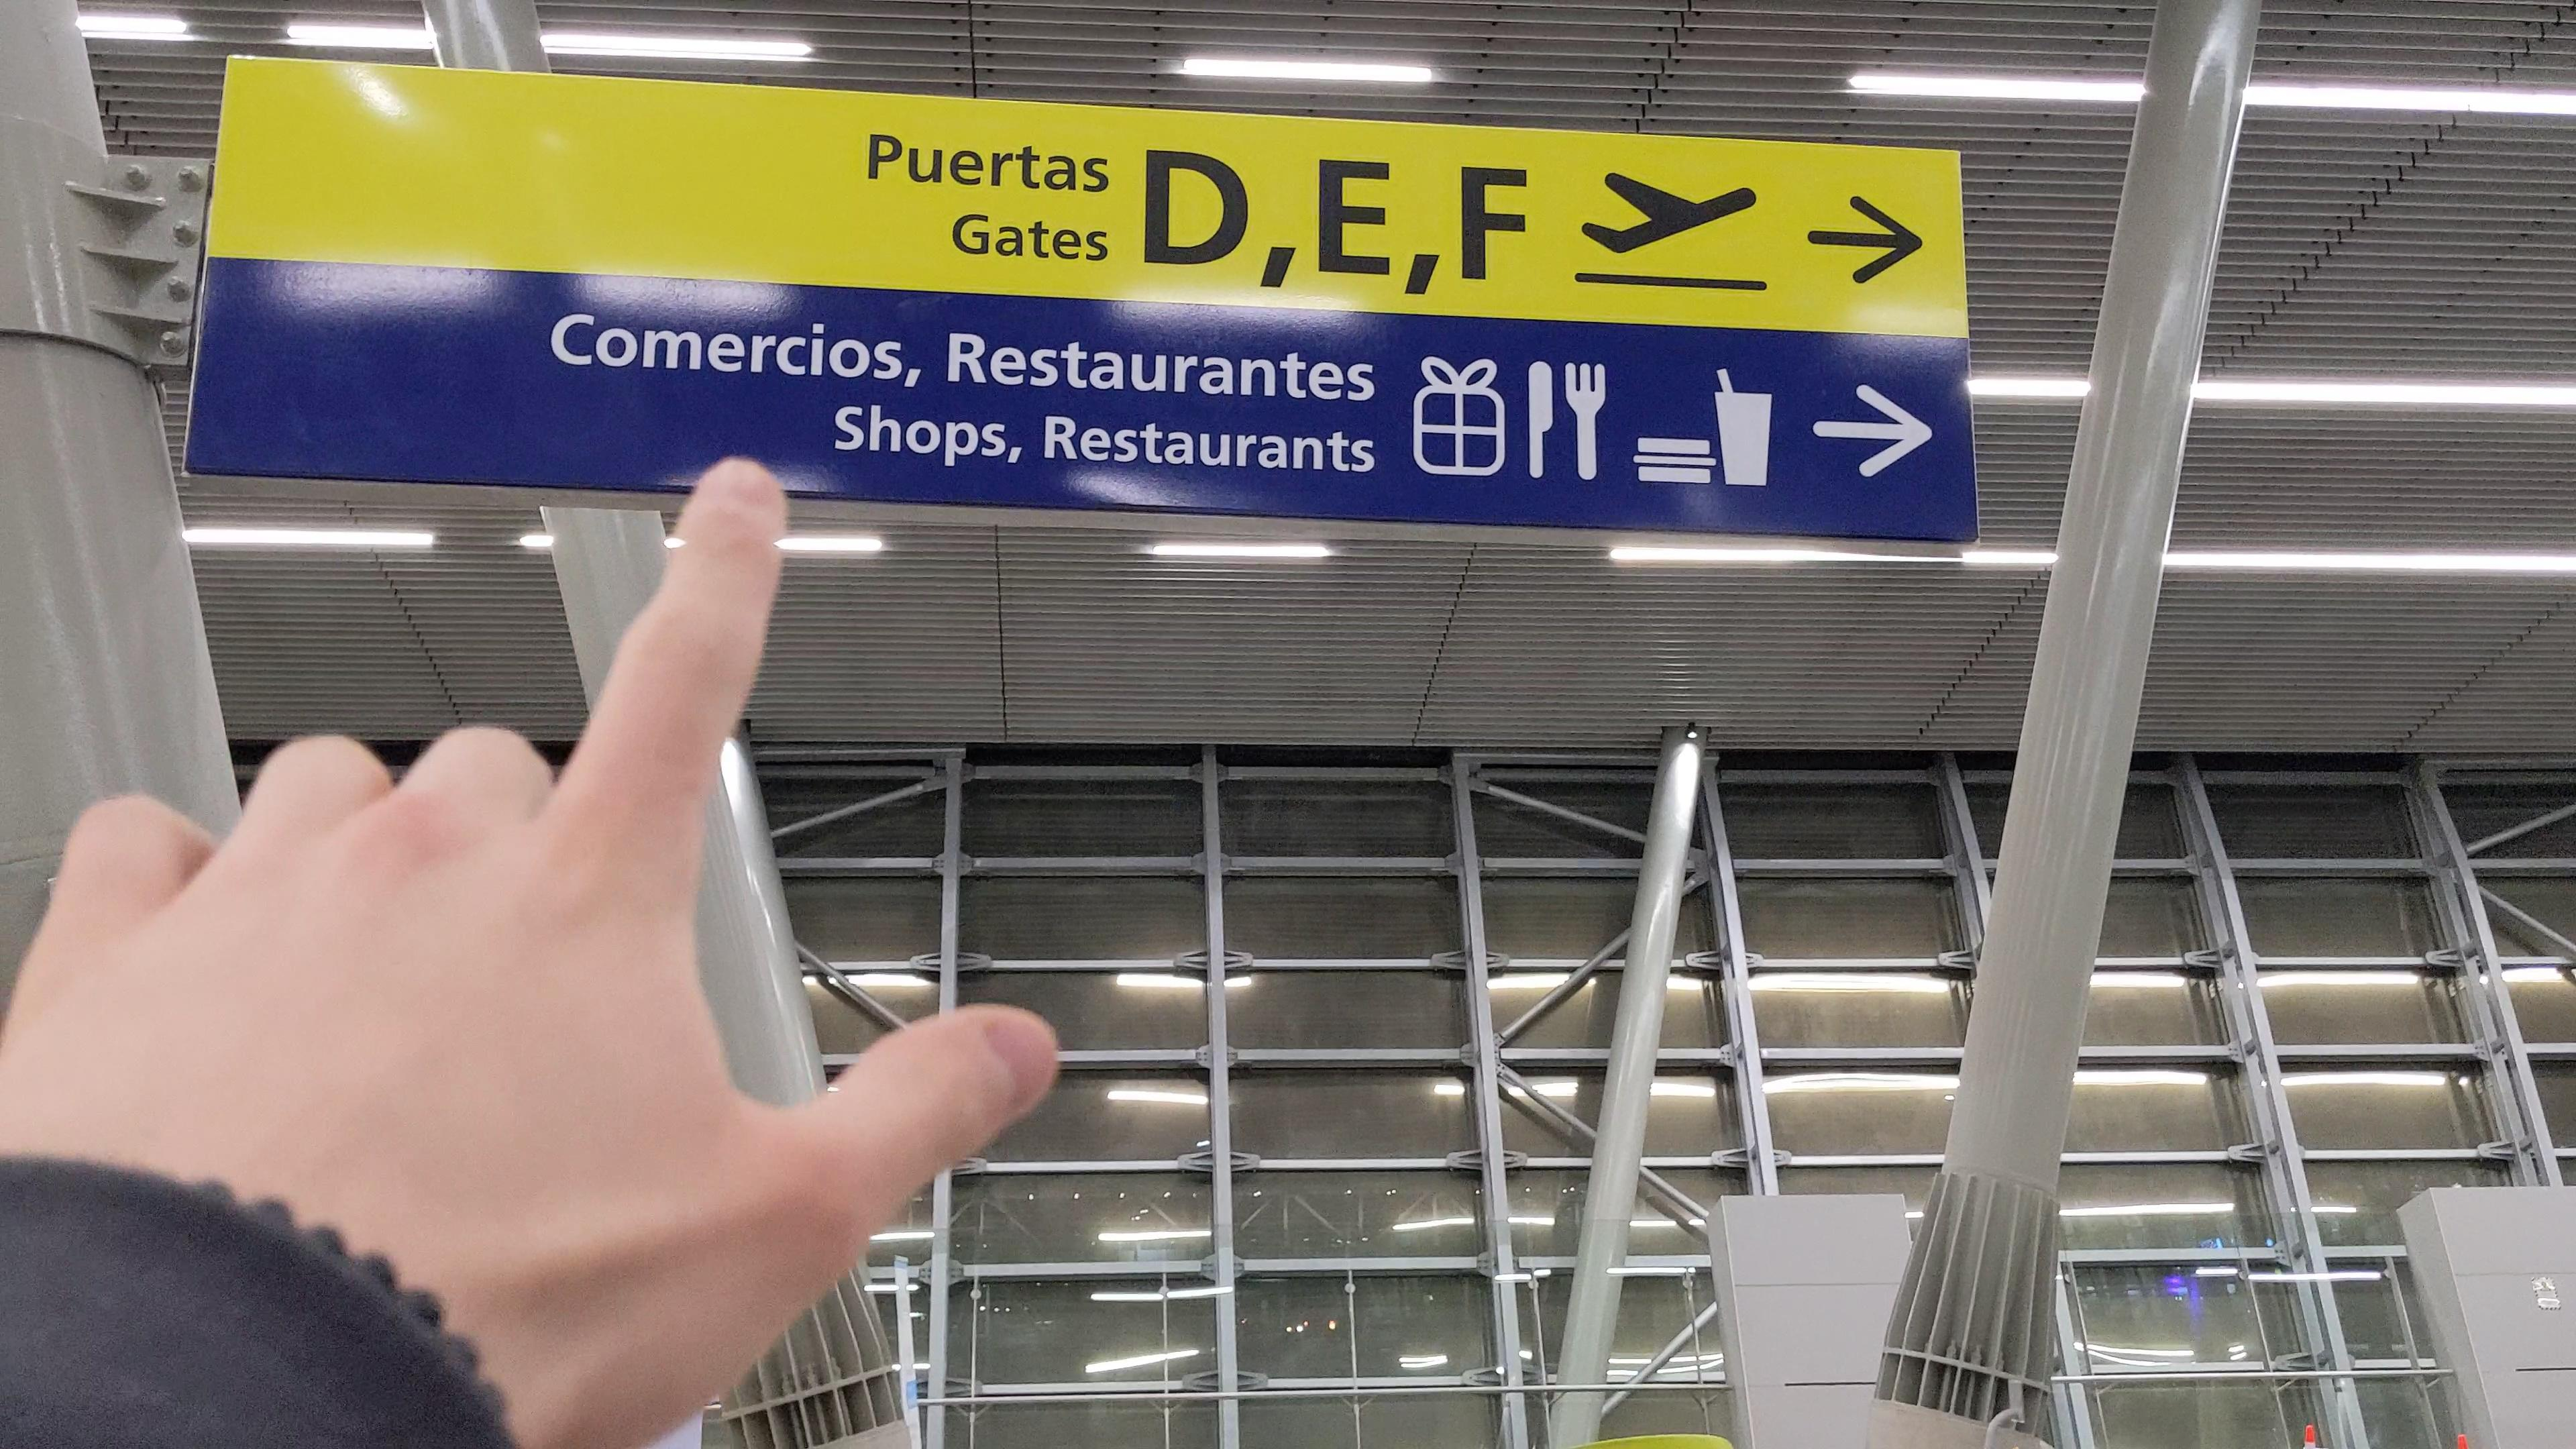airplane symbol: (1580, 165, 1762, 258)
restaurants: (1514, 354, 1612, 487)
thin right arrow: (1803, 189, 1928, 292), (1813, 380, 1937, 483)
